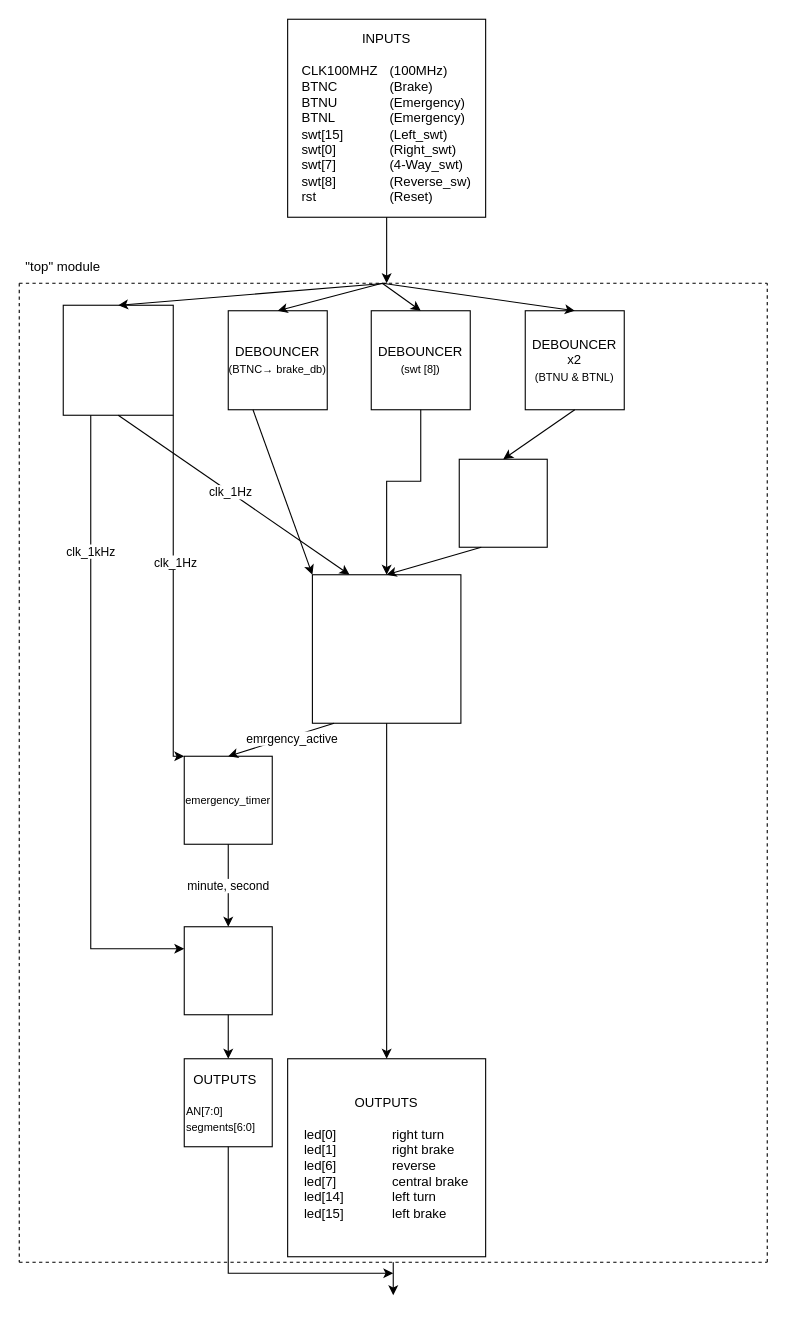
Image size: 788x1323. Some labels were removed from this diagram. The shapes that lost their labels are listed below. From the top down, each one's centre as x and y in pixels, then its label:
At point (117, 359): "CLOCK_DIVIDER (Generate clk signals) *clk_1Hz *clk_1kHz".
At point (502, 502): "emergency_btn = BTNU_db & BTNL_db".
At point (386, 648): "FSM core logic".
At point (227, 970): "seven_seg_driver".
